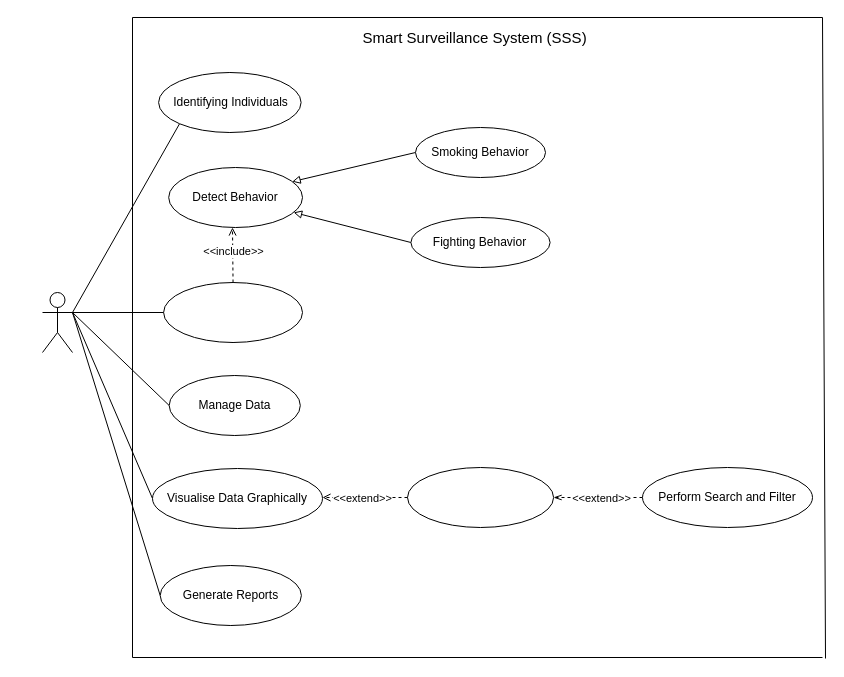
The diagram is 844 pixels wide and 677 high, and some of its shapes have lost their labels. The shapes that lost their labels are listed below. From the top down, each one's centre as x and y in pixels, then its label:
At point 57,322: "Security Admin".
At point 232,312: "Address Alerts".
At point 480,497: "View Data Summary".
